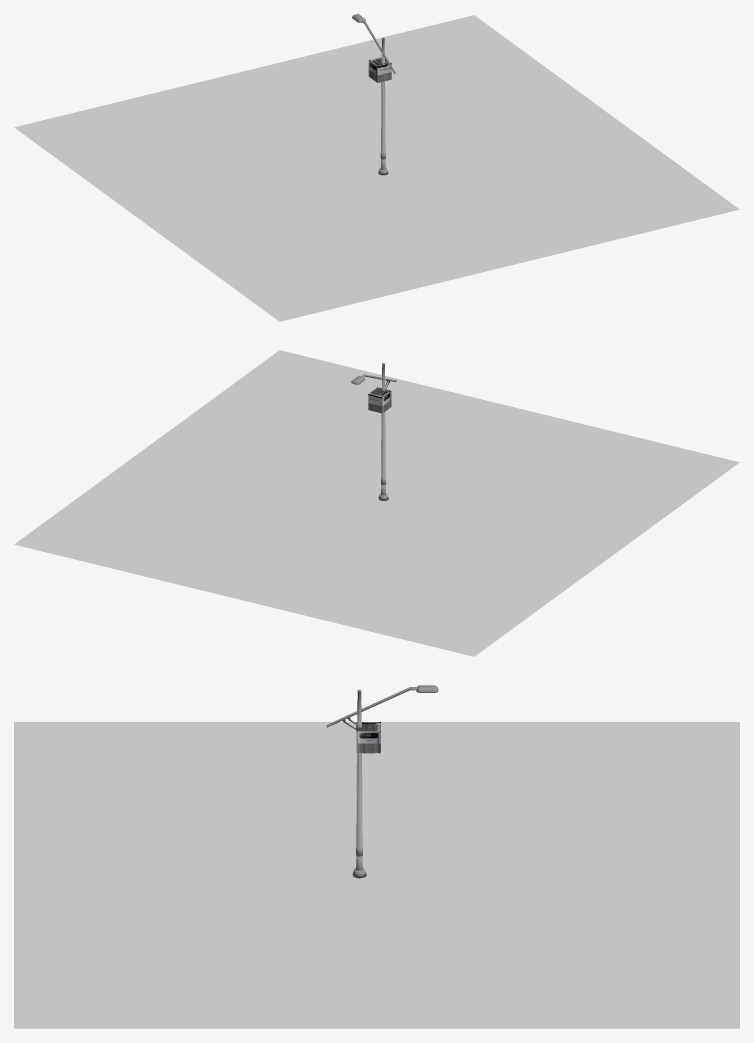
The model's file is Streetlights.glb.
3 views of the same model, one above another, from view 1: azimuth 30°, elevation 25°; view 2: azimuth 150°, elevation 25°; view 3: azimuth 270°, elevation 25° (orthographic). The views are drawn at different scales.
Parts seen in each view (by area): view 1: Cube; view 2: Cube; view 3: Cube.
Part boxes in pixels (<box>): Cube: <box>14,14,739,321</box>; Cube: <box>14,350,739,656</box>; Cube: <box>14,685,739,1028</box>.
Bounding box in the file's own units: 5.44 × 1.56 × 5.44.
Materials: 8 (5 with a texture image).
